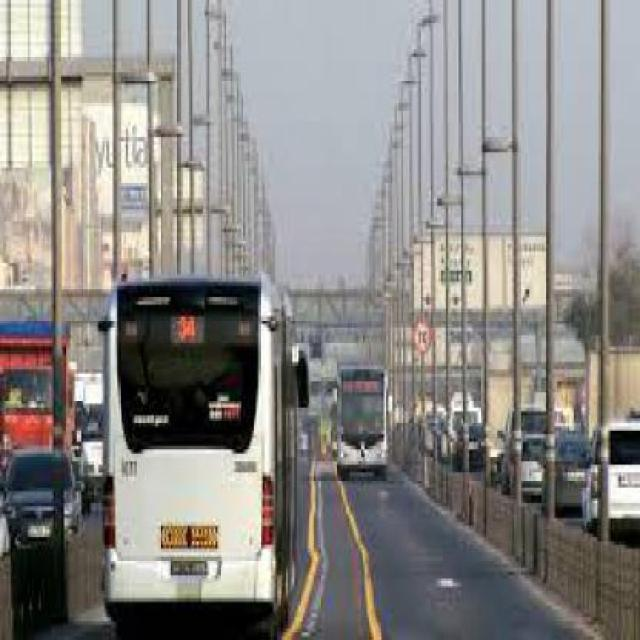bus: (99, 274, 312, 626), (335, 369, 392, 478)
